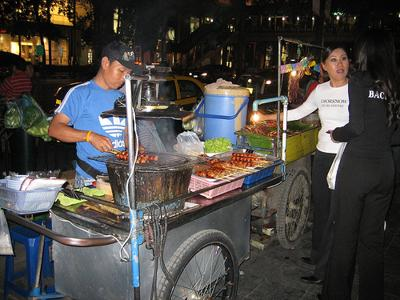person: (48, 42, 142, 182)
